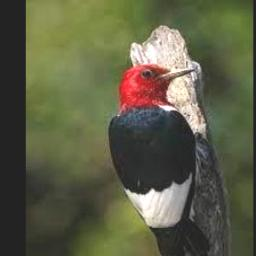Woodpecker: (105, 64, 210, 256)
